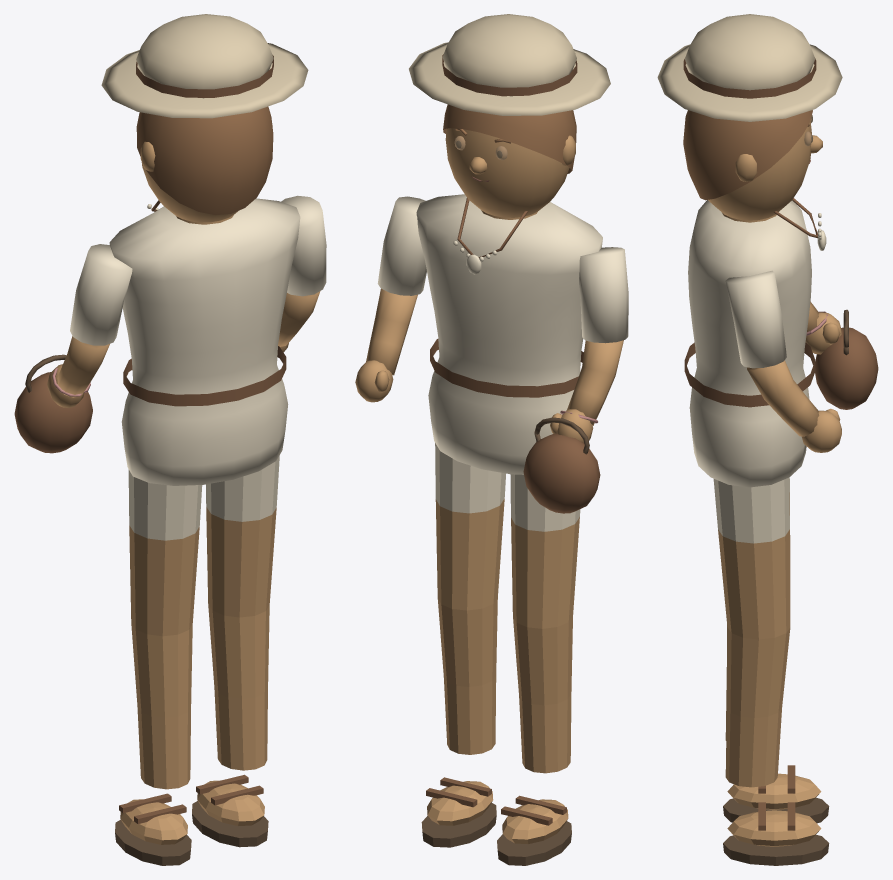
The model's file is SM_NPC_CONCHA.glb.
The picture shows the model from 3 angles, left to right: view 1: azimuth 30°, elevation 25°; view 2: azimuth 150°, elevation 25°; view 3: azimuth 270°, elevation 25°; orthographic projection. The views are drawn at different scales.
Visible parts, largest first — view 1: SM_NPC_CONCHA_BODY, SM_NPC_CONCHA_HAIR, SM_NPC_CONCHA_LEG_L, SM_NPC_CONCHA_LEG_R, SM_NPC_CONCHA_ARM_L, SM_NPC_CONCHA_ARM_R, SM_NPC_CONCHA_HEAD; view 2: SM_NPC_CONCHA_BODY, SM_NPC_CONCHA_LEG_R, SM_NPC_CONCHA_LEG_L, SM_NPC_CONCHA_HAIR, SM_NPC_CONCHA_ARM_L, SM_NPC_CONCHA_HEAD, SM_NPC_CONCHA_ARM_R; view 3: SM_NPC_CONCHA_BODY, SM_NPC_CONCHA_LEG_R, SM_NPC_CONCHA_HAIR, SM_NPC_CONCHA_ARM_R, SM_NPC_CONCHA_ARM_L, SM_NPC_CONCHA_HEAD, SM_NPC_CONCHA_LEG_L.
Boxes of the visible parts, box(x1,y1,x2,y2) form: SM_NPC_CONCHA_BODY: box(109, 198, 300, 485); SM_NPC_CONCHA_HAIR: box(101, 14, 308, 215); SM_NPC_CONCHA_LEG_L: box(115, 469, 202, 865); SM_NPC_CONCHA_LEG_R: box(192, 455, 279, 847); SM_NPC_CONCHA_ARM_L: box(14, 244, 132, 453); SM_NPC_CONCHA_ARM_R: box(278, 195, 326, 352); SM_NPC_CONCHA_HEAD: box(140, 125, 272, 222); SM_NPC_CONCHA_BODY: box(416, 194, 602, 474); SM_NPC_CONCHA_LEG_R: box(421, 443, 505, 847); SM_NPC_CONCHA_LEG_L: box(497, 474, 580, 865); SM_NPC_CONCHA_HAIR: box(409, 14, 610, 173); SM_NPC_CONCHA_ARM_L: box(523, 247, 628, 513); SM_NPC_CONCHA_HEAD: box(445, 128, 575, 217); SM_NPC_CONCHA_ARM_R: box(355, 196, 426, 402); SM_NPC_CONCHA_BODY: box(684, 198, 826, 487); SM_NPC_CONCHA_LEG_R: box(713, 477, 829, 865); SM_NPC_CONCHA_HAIR: box(657, 14, 842, 200); SM_NPC_CONCHA_ARM_R: box(725, 270, 841, 452); SM_NPC_CONCHA_ARM_L: box(805, 301, 878, 409); SM_NPC_CONCHA_HEAD: box(708, 121, 822, 220); SM_NPC_CONCHA_LEG_L: box(723, 479, 829, 823).
Size of the model in its own units: 0.6321 by 1.89 by 0.4666.
